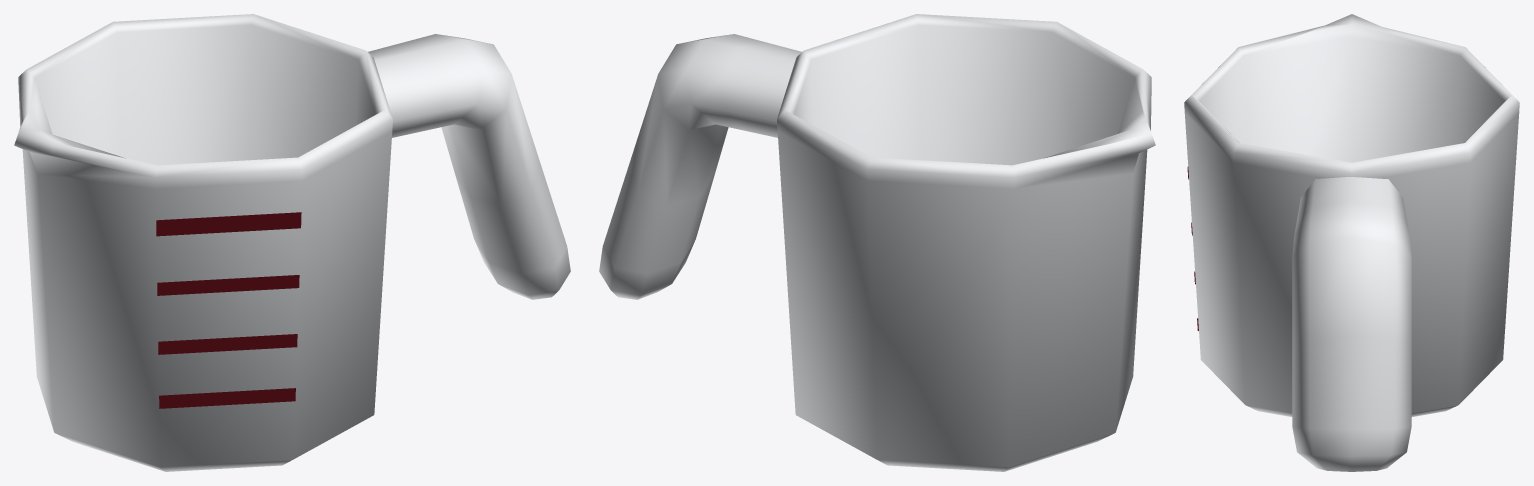
File: cooking_assets_measuring_cup_q6i3xl52ge.glb
3 views of the same model, side by side, from view 1: azimuth 30°, elevation 25°; view 2: azimuth 150°, elevation 25°; view 3: azimuth 270°, elevation 25° (orthographic). The views are drawn at different scales.
Visible parts, largest first — view 1: mcup_measuring_cup_small_Cylinder.013; view 2: mcup_measuring_cup_small_Cylinder.013; view 3: mcup_measuring_cup_small_Cylinder.013.
Boxes of the visible parts, left/top/right/bottom form: mcup_measuring_cup_small_Cylinder.013: left=14, top=14, right=570, bottom=471; mcup_measuring_cup_small_Cylinder.013: left=599, top=14, right=1155, bottom=471; mcup_measuring_cup_small_Cylinder.013: left=1184, top=14, right=1519, bottom=471.
Size of the model in its own units: 4.1 by 2.32 by 2.54.
Materials: 2 (2 with a texture image).
